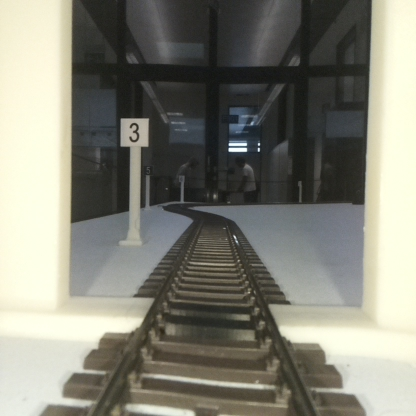white-info-3: (120, 119, 148, 245)
